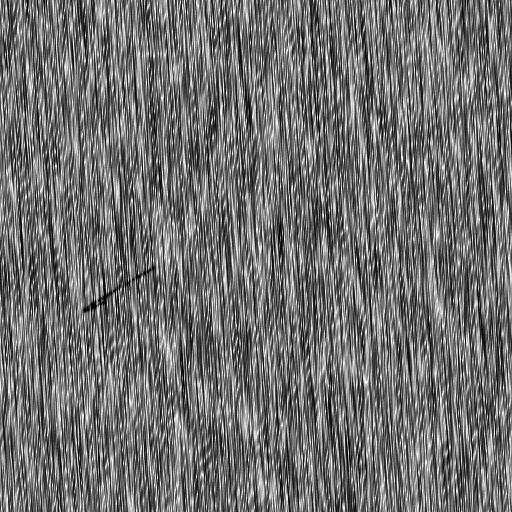DefectTypeC: (84, 262, 160, 311)
